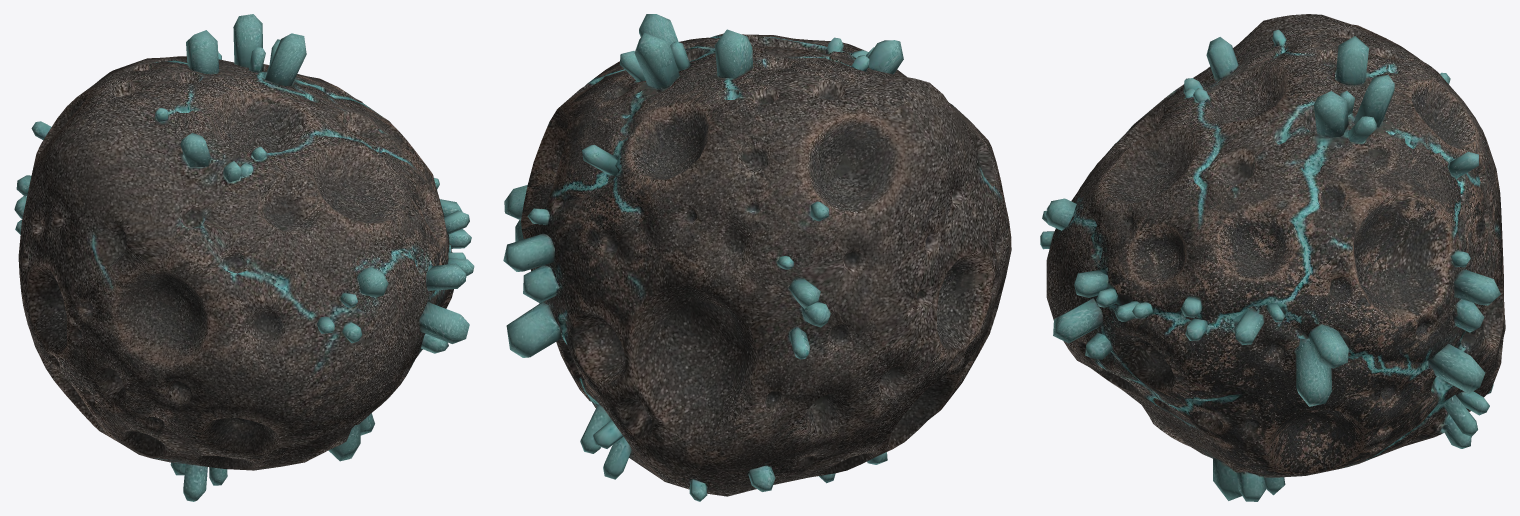
The model's file is tripo_convert_e7e6fa18-39a9-40d9-90ed-c1eae992bb57.fbx.
The picture shows the model from 3 angles, left to right: view 1: azimuth 30°, elevation 25°; view 2: azimuth 150°, elevation 25°; view 3: azimuth 270°, elevation 25°; orthographic projection. The views are drawn at different scales.
Parts seen in each view (by area): view 1: tripo_node_e7e6fa18; view 2: tripo_node_e7e6fa18; view 3: tripo_node_e7e6fa18.
Part boxes in pixels (x1,y1,x2,y2): tripo_node_e7e6fa18: (14, 14, 474, 501); tripo_node_e7e6fa18: (503, 14, 1011, 501); tripo_node_e7e6fa18: (1040, 14, 1505, 501).
Size of the model in its own units: 0.998 by 0.998 by 0.9902.
Materials: 1 (1 with a texture image).
